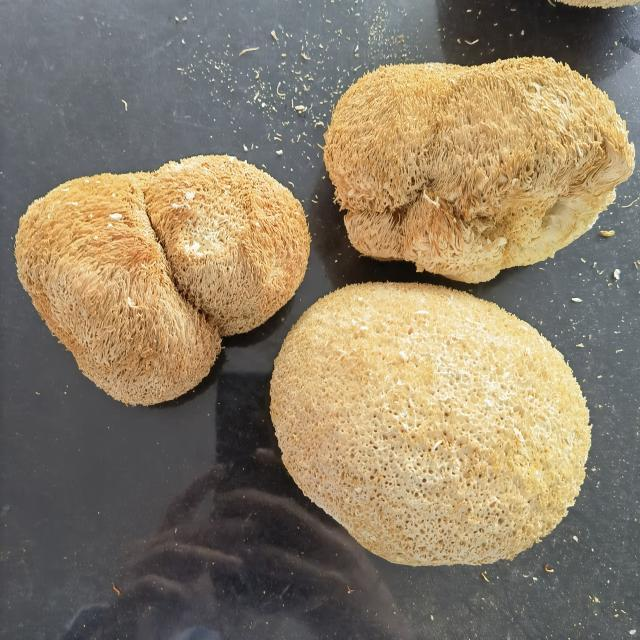Hericium erinaceus: (268, 283, 596, 562), (13, 155, 306, 408), (328, 51, 636, 281)
